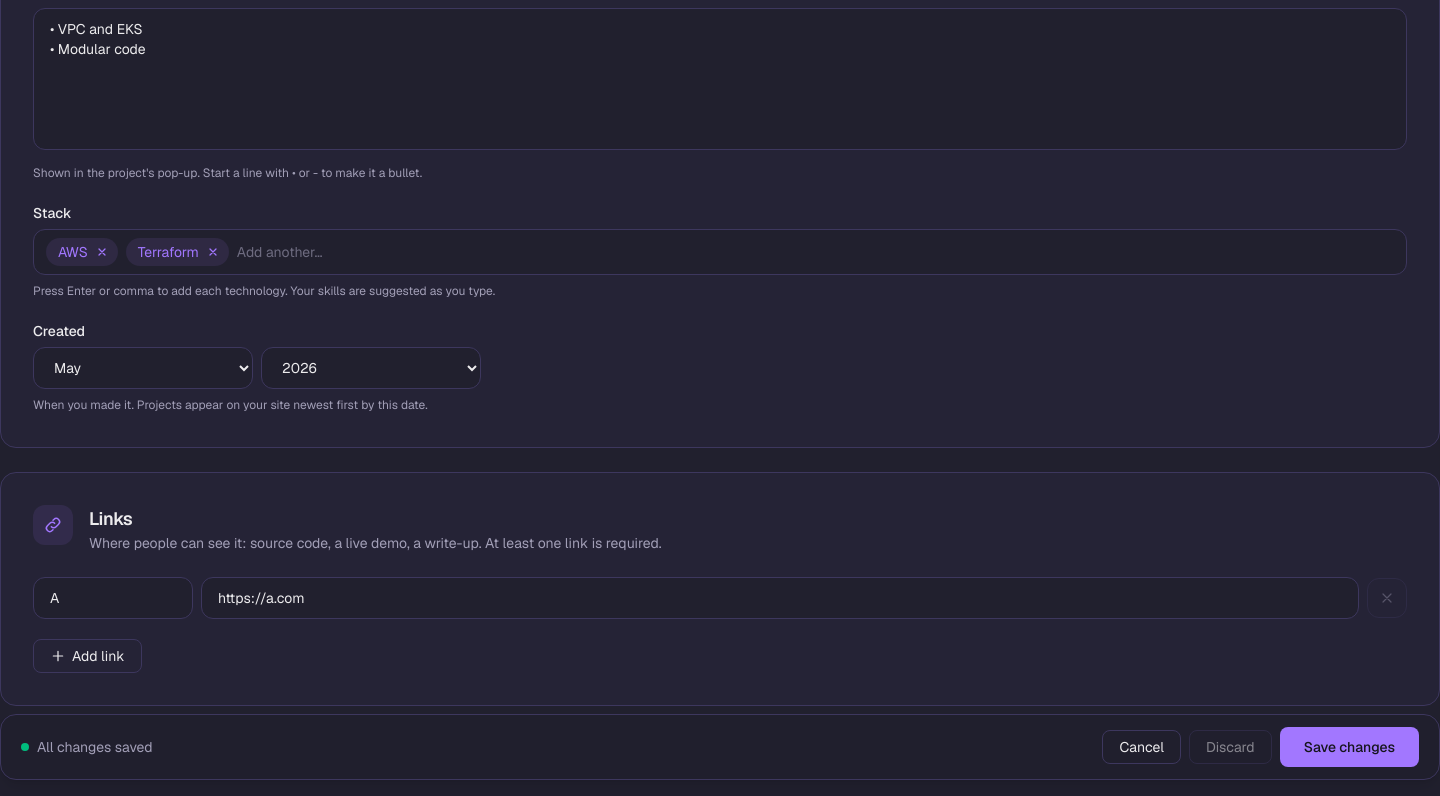
links › always keeps at least one link, and can add and remove others
(page scrolled)
Expected: the button named "Remove link" is disabled, [1367, 578, 1407, 618]
Step 1. Click the button "Add link" → point(87, 656), box [33, 639, 142, 673]
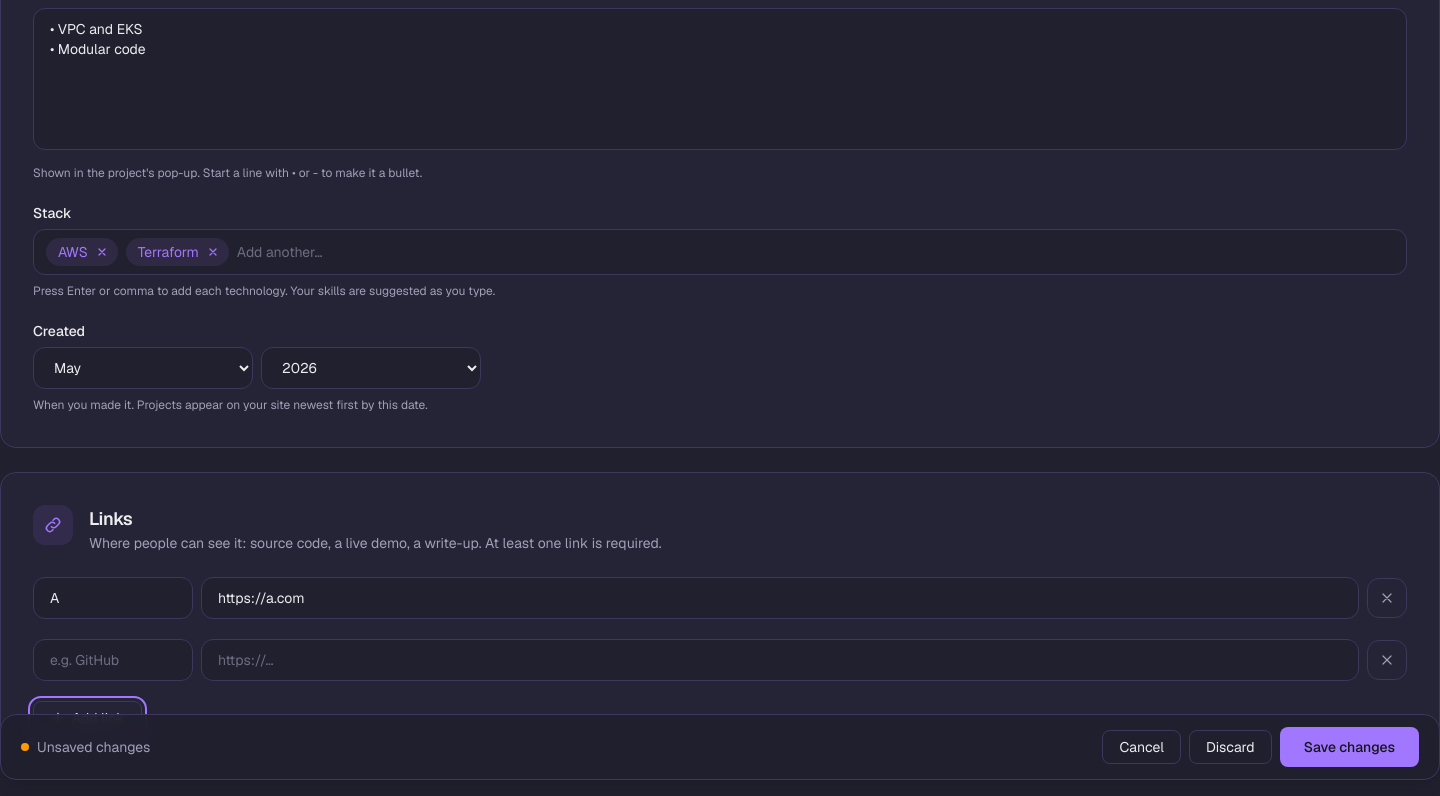
Expected: the number of fields named "Link name" is 2, [33, 577, 193, 619]; [33, 639, 193, 681]
Step 2. Click the 1st button named "Remove link" → point(1387, 598), box [1367, 578, 1407, 618]
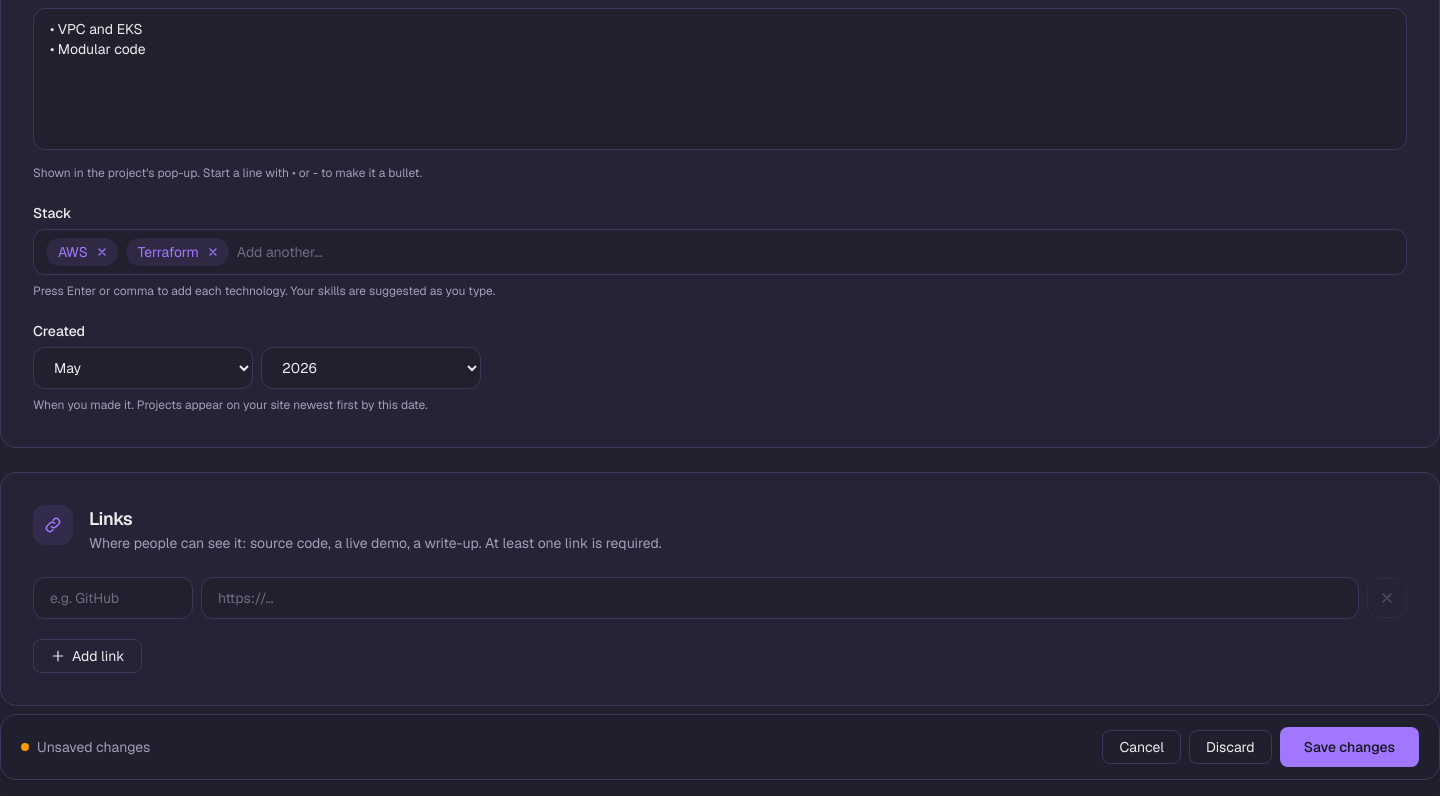
Expected: the number of fields named "Link name" is 1, [33, 577, 193, 619]
Expected: the field named "Link name" is empty, [33, 577, 193, 619]
